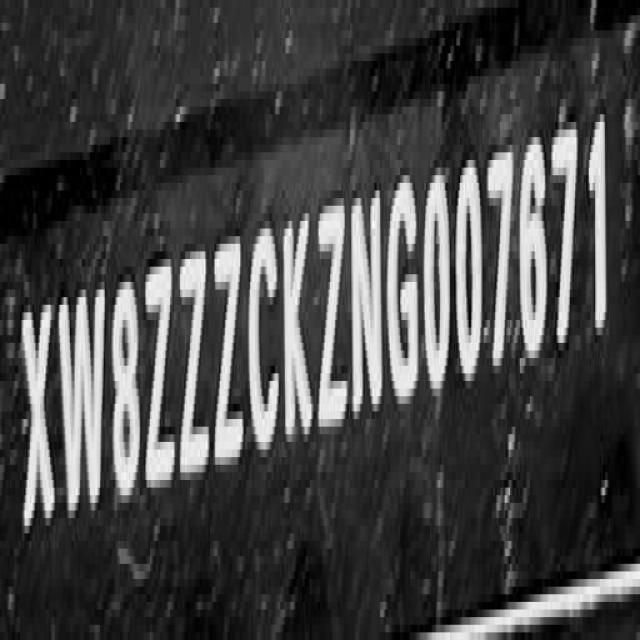0: (421, 155, 452, 395), (456, 138, 482, 387)
1: (586, 104, 611, 350)
6: (518, 110, 548, 367)
7: (552, 105, 580, 362), (488, 141, 516, 384)
8: (111, 274, 140, 508)
C: (248, 212, 280, 462)
G: (386, 155, 420, 409)
K: (282, 206, 312, 437)
N: (351, 178, 384, 420)
W: (58, 276, 106, 516)
X: (21, 302, 56, 533)
Z: (316, 198, 350, 443), (144, 254, 177, 499), (212, 229, 244, 474), (179, 254, 210, 480)
